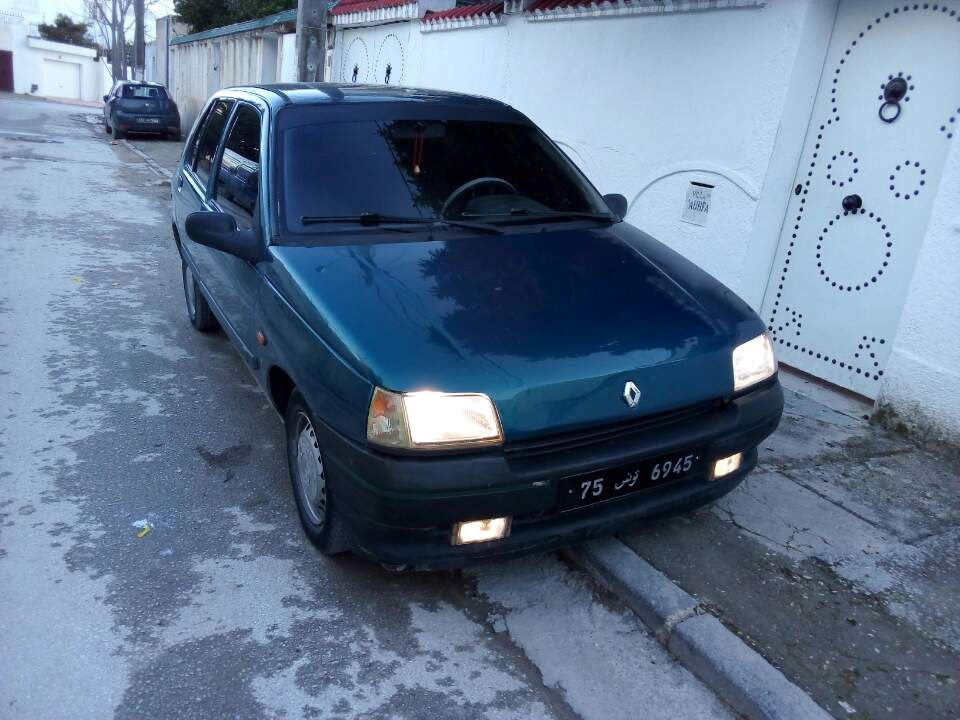LP: (562, 451, 712, 504)
